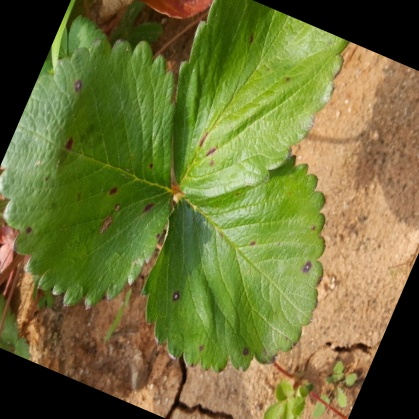Leaf_Spot: (0, 78, 177, 355), (174, 125, 348, 362), (124, 0, 279, 203)
